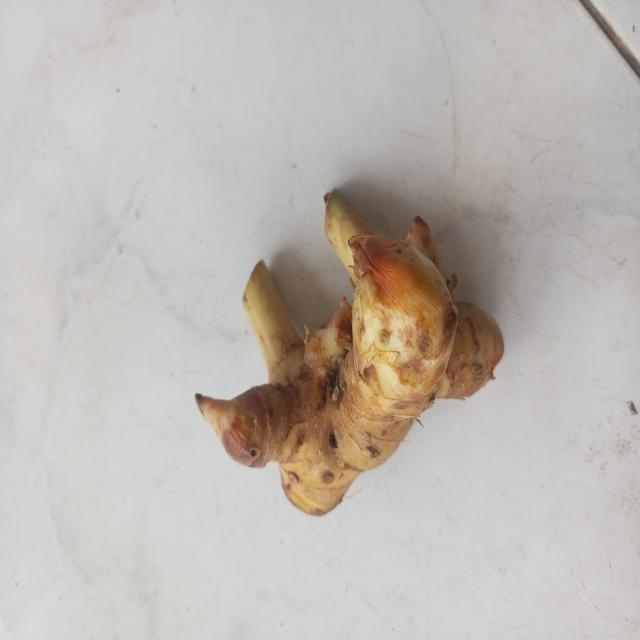ginger: (204, 197, 494, 513)
